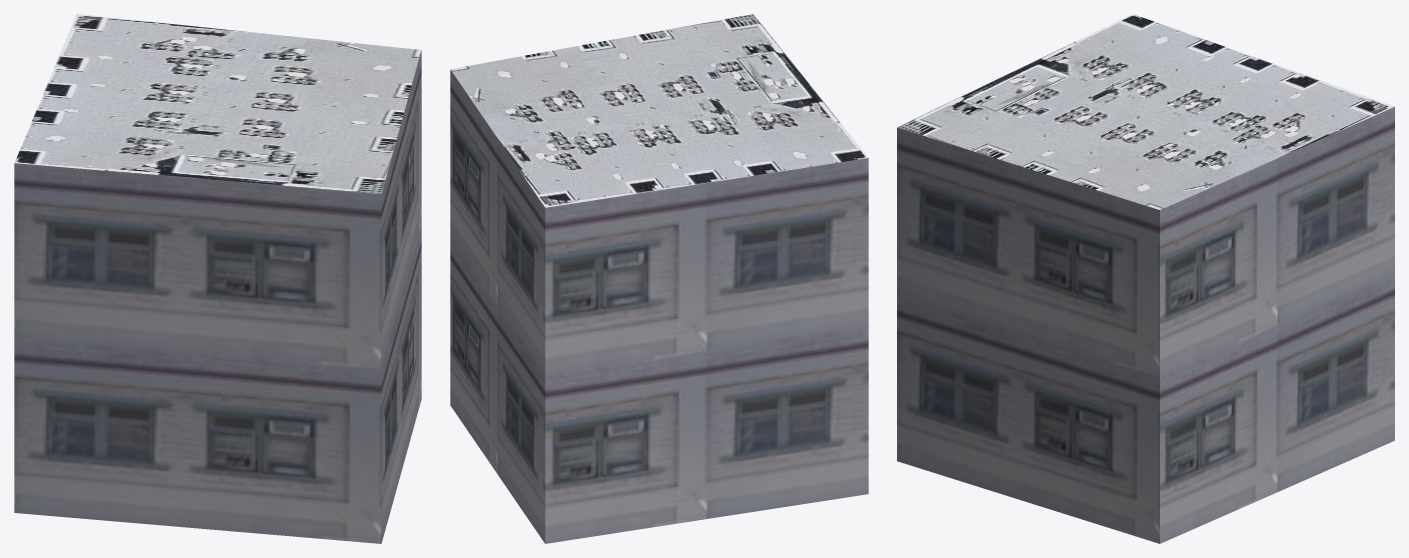
File: ResTex__4413.fbx
The picture shows the model from 3 angles, left to right: view 1: azimuth 30°, elevation 25°; view 2: azimuth 150°, elevation 25°; view 3: azimuth 270°, elevation 25°; orthographic projection. The views are drawn at different scales.
Parts seen in each view (by area): view 1: CityEngineMaterial_1_m, CityEngineMaterial_2_m; view 2: CityEngineMaterial_1_m, CityEngineMaterial_2_m; view 3: CityEngineMaterial_1_m, CityEngineMaterial_2_m.
Part boxes in pixels (box(x1,y1,x2,y2)): CityEngineMaterial_1_m: box(14, 50, 421, 543); CityEngineMaterial_2_m: box(14, 14, 421, 193); CityEngineMaterial_1_m: box(450, 69, 868, 543); CityEngineMaterial_2_m: box(450, 14, 868, 207); CityEngineMaterial_1_m: box(897, 107, 1394, 543); CityEngineMaterial_2_m: box(897, 14, 1394, 209).
Bounding box in the file's own units: 7.56 × 6 × 8.11.
2 materials, 2 textured.
